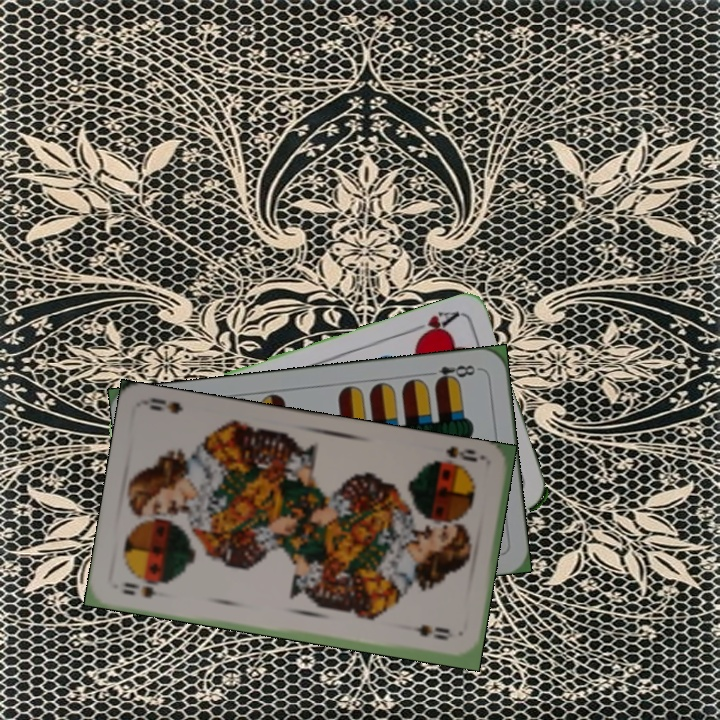E8: (423, 361, 482, 387)
HA: (405, 307, 462, 344)
SO: (427, 442, 488, 472), (118, 578, 159, 600)
